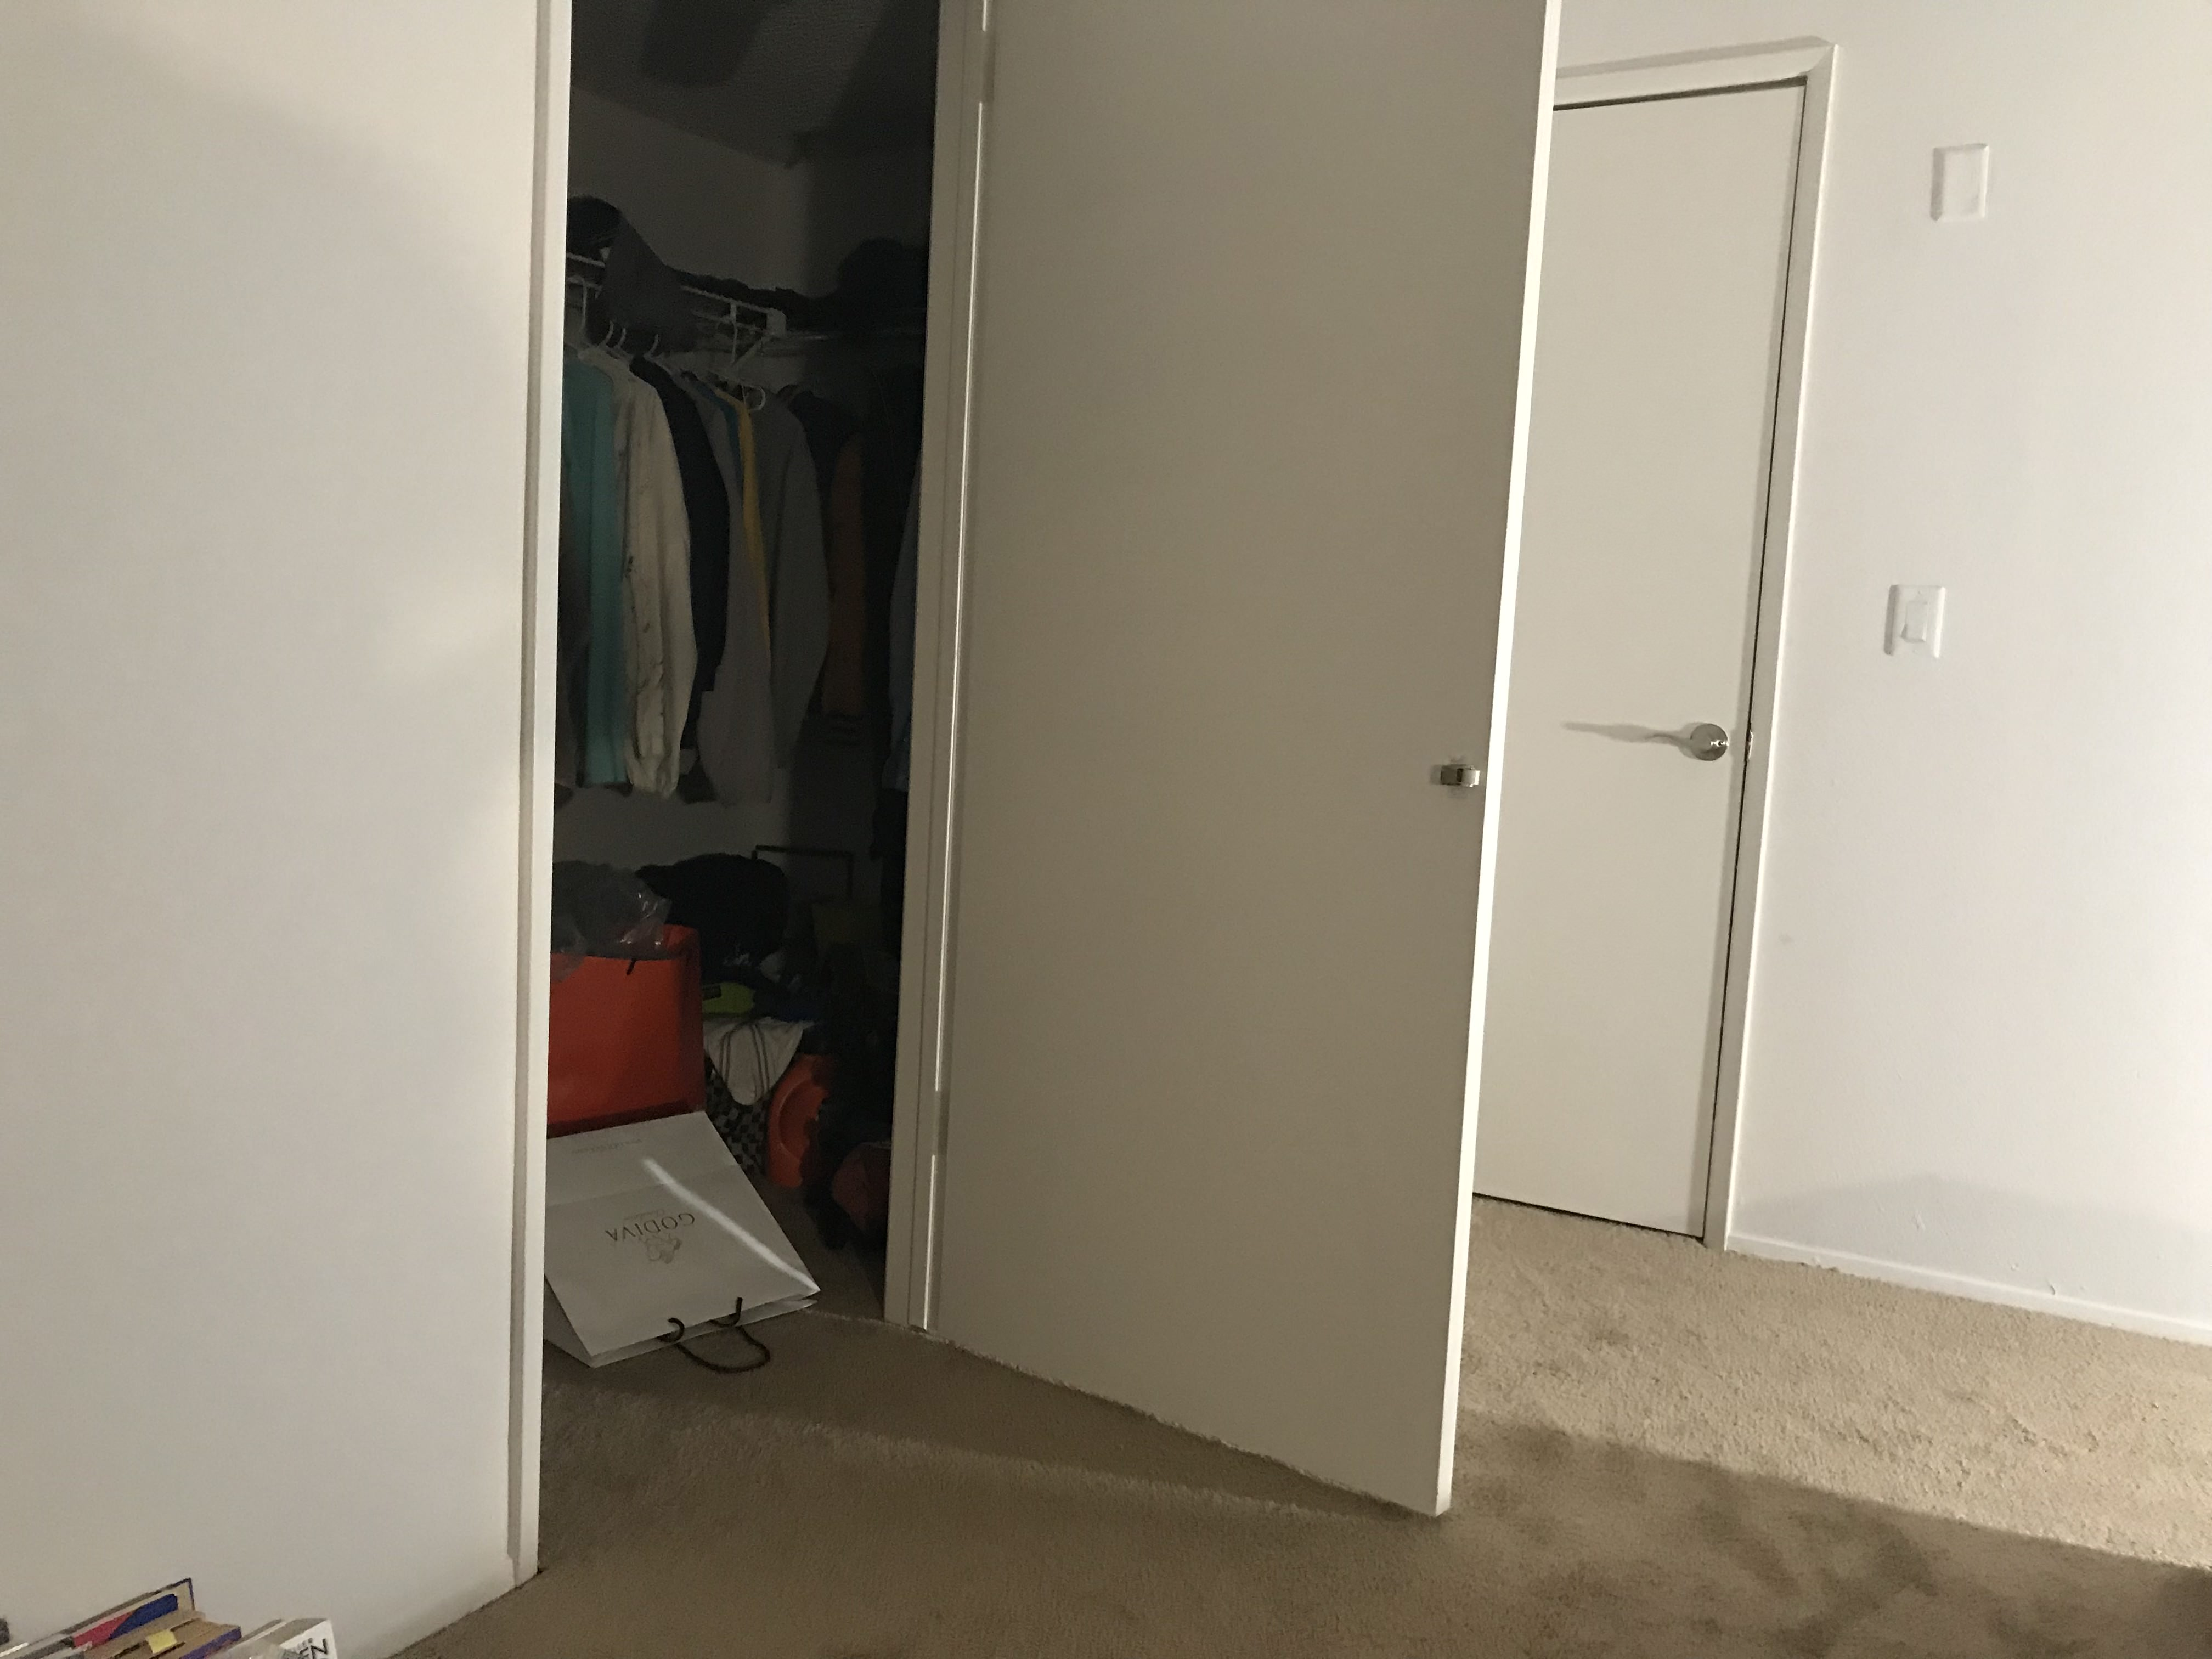Obstacle: (888, 2, 1561, 1521), (1474, 7, 2205, 1349), (2, 9, 568, 1654), (535, 1121, 834, 1363)
